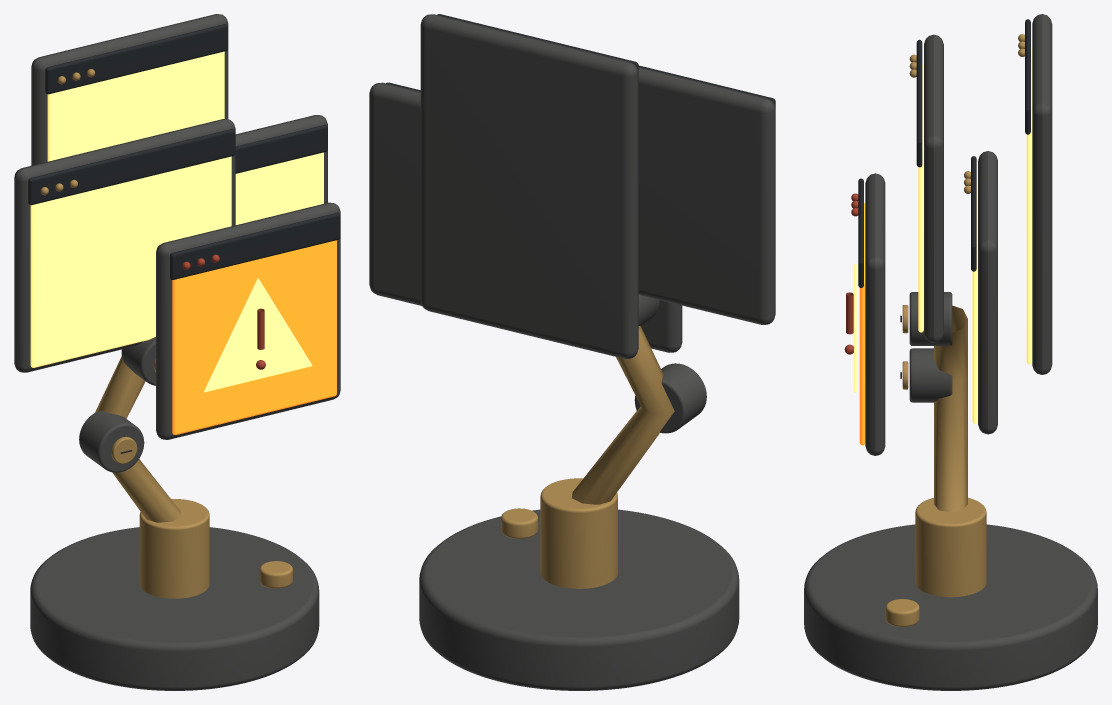
File: aventura_alertas_articulados.glb
3 renders of one model, left to right at view 1: azimuth 30°, elevation 25°; view 2: azimuth 150°, elevation 25°; view 3: azimuth 270°, elevation 25°, orthographic. The views are drawn at different scales.
Parts seen in each view (by area): view 1: alertas_articulados; view 2: alertas_articulados; view 3: alertas_articulados.
Part boxes in pixels (left/top/right/bottom): alertas_articulados: left=14, top=14, right=340, bottom=690; alertas_articulados: left=369, top=14, right=775, bottom=690; alertas_articulados: left=804, top=14, right=1097, bottom=690.
Size of the model in its own units: 0.278 by 0.443 by 0.206.
